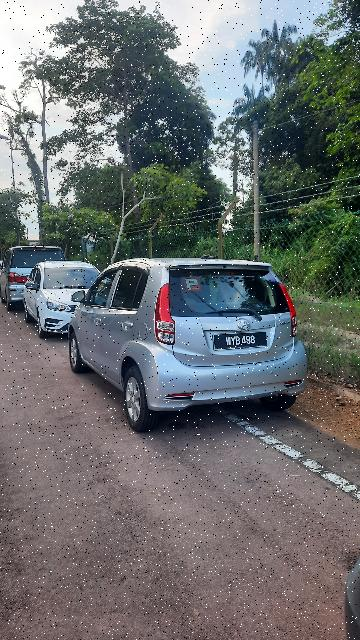License_Plate: (209, 328, 271, 350)
car: (64, 257, 311, 437)
